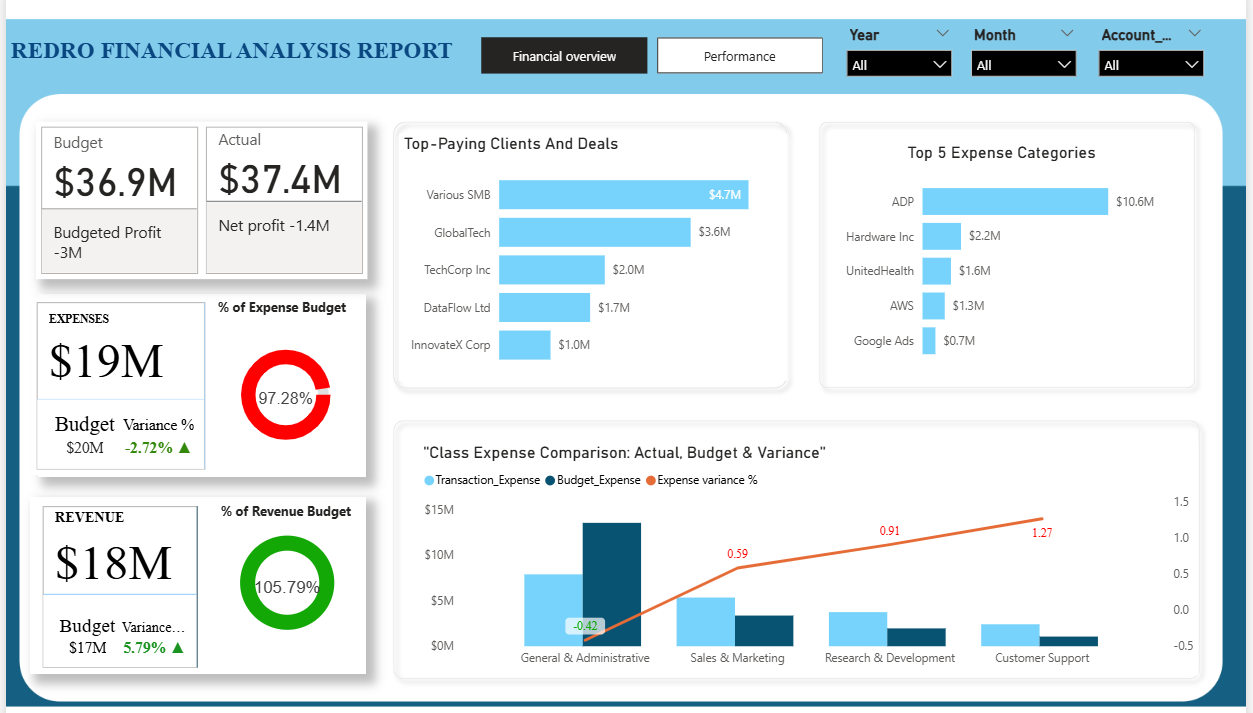

What the dashboard file says about the page in this screenshot:
{"tool":"powerbi","page":{"name":"Financial overview","canvas":[1280,778],"ordinal":0},"visuals":[{"type":"slicer","fields":{"Values":["Date.Year"]},"box":[858,30.2,128.5,71.8],"z":0},{"type":"shape","box":[390,125.4,425.6,294.1],"z":0,"group":"g5"},{"type":"shape","box":[390,433.4,851.3,286.3],"z":0,"group":"g4"},{"type":"shape","box":[24.8,521.6,346.9,183.3],"z":0,"group":"g2"},{"type":"slicer","fields":{"Values":["Date.Month"]},"box":[986.5,30.2,128.5,71.8],"z":1000},{"type":"shape","box":[33,313.2,338.6,188.6],"z":1000,"group":"g1"},{"type":"cardVisual","fields":{"Data":["DAX Measures.TOTAL TRANSACTION REVENUE"]},"box":[32.9,526.9,170.3,178],"z":1000,"group":"g2"},{"type":"slicer","fields":{"Values":["Account_DIM.ACCOUNT_Code"]},"box":[1116.9,30.2,128.5,71.8],"z":2000},{"type":"cardVisual","fields":{"Data":["DAX Measures.% of REVENUE budget"]},"box":[210.9,531.5,163,163],"z":2000,"group":"g2"},{"type":"group","id":"g1","title":"Group 1","box":[26.5,311.8,345.8,189],"z":3000},{"type":"textbox","box":[217.3,521.6,149.2,45.3],"z":3000,"group":"g2"},{"type":"group","id":"g2","title":"Group 2","box":[24.8,521.6,349.1,183.3],"z":4000},{"type":"group","id":"g3","title":"Group 4","box":[829.8,124.8,407.1,294.1],"z":5000},{"type":"barChart","title":"Top-Paying Clients And Deals","fields":{"Y":["DAX Measures.TOTAL TRANSACTION REVENUE"],"Category":["Transaction DIM.Client/Vendor_NAME"]},"box":[405.5,147.5,400.9,254.6],"z":5000,"group":"g5"},{"type":"cardVisual","fields":{"Data":["DAX Measures.TOTAL TRANSACTION EXPENSE"]},"box":[26.5,316.7,184.7,183.2],"z":5000,"group":"g1"},{"type":"shape","box":[829.8,124.8,407.1,294.1],"z":5503,"group":"g3"},{"type":"textbox","box":[0,41.6,514,49.1],"z":6000},{"type":"barChart","title":"Top 5 Expense Categories","fields":{"Category":["Transaction DIM.Client/Vendor_NAME"],"Y":["DAX Measures.TOTAL TRANSACTION EXPENSE"]},"box":[854.5,155.7,345.8,238.5],"z":6003,"group":"g3"},{"type":"cardVisual","fields":{"Data":["DAX Measures.Budget","DAX Measures.Actual"]},"box":[30.2,134.2,342,162.5],"z":7000},{"type":"cardVisual","fields":{"Data":["DAX Measures.% of expense budget"]},"box":[212.7,344.7,157.4,150],"z":7000,"group":"g1"},{"type":"group","id":"g4","title":"Group 6","box":[390,433.4,851.3,286.3],"z":8000},{"type":"textbox","box":[213.2,311.8,151.4,31.8],"z":8001,"group":"g1"},{"type":"pageNavigator","box":[490.6,48,352.9,37.1],"z":9000},{"type":"group","id":"g5","title":"Group 1","box":[390,125.4,425.6,294.1],"z":10000},{"type":"lineClusteredColumnComboChart","title":"\"Class Expense Comparison: Actual, Budget & Variance\"","fields":{"Category":["Transaction DIM.CLASS"],"Y":["DAX Measures.TOTAL TRANSACTION EXPENSE","DAX Measures.TOTAL BUDGET EXPENSES"],"Y2":["DAX Measures.Expense variance %"]},"box":[425.5,465.3,804.8,239.9],"z":11000,"group":"g4"}]}

Visuals, with their boxes on the page's 1280x778 design canvas (x1, y1, x2, y2). These are canvas units, not pixel positions in the 1253x713 screenshot, which may show the page scaled, cropped or inside an application window:
slicer - Date.Year: (858,30,986,102)
shape: (390,125,816,420)
shape: (390,433,1241,720)
shape: (25,522,372,705)
slicer - Date.Month: (986,30,1115,102)
shape: (33,313,372,502)
cardVisual - DAX Measures.TOTAL TRANSACTION REVENUE: (33,527,203,705)
slicer - Account_DIM.ACCOUNT_Code: (1117,30,1245,102)
cardVisual - DAX Measures.% of REVENUE budget: (211,532,374,694)
"Group 1" group: (26,312,372,501)
textbox: (217,522,366,567)
"Group 2" group: (25,522,374,705)
"Group 4" group: (830,125,1237,419)
"Top-Paying Clients And Deals" barChart: (406,148,806,402)
cardVisual - DAX Measures.TOTAL TRANSACTION EXPENSE: (26,317,211,500)
shape: (830,125,1237,419)
textbox: (0,42,514,91)
"Top 5 Expense Categories" barChart: (854,156,1200,394)
cardVisual - DAX Measures.Budget x DAX Measures.Actual: (30,134,372,297)
cardVisual - DAX Measures.% of expense budget: (213,345,370,495)
"Group 6" group: (390,433,1241,720)
textbox: (213,312,365,344)
pageNavigator: (491,48,844,85)
"Group 1" group: (390,125,816,420)
""Class Expense Comparison: Actual, Budget & Variance"" lineClusteredColumnComboChart: (426,465,1230,705)
